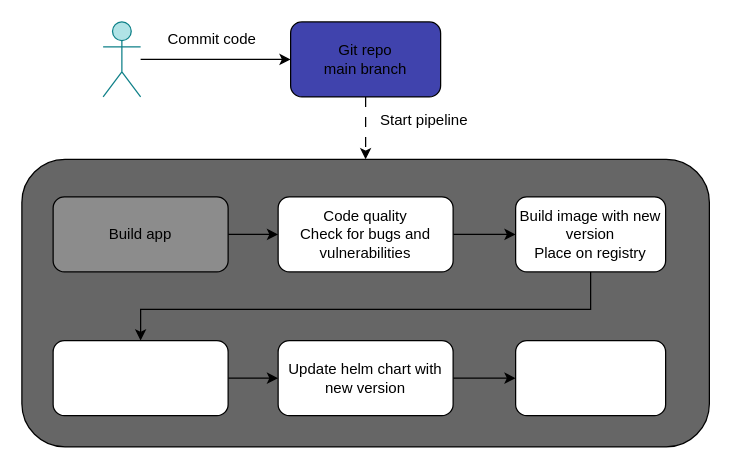
This 731x469 diagram has some shape labels left out. The shapes that lost their labels are listed below. From the top down, each one's centre as x and y in pixels, then its label:
At [121,59]: "Me".
At [140,377]: "Trivy Scan image".
At [590,377]: "ArgoCD updates cluster".
